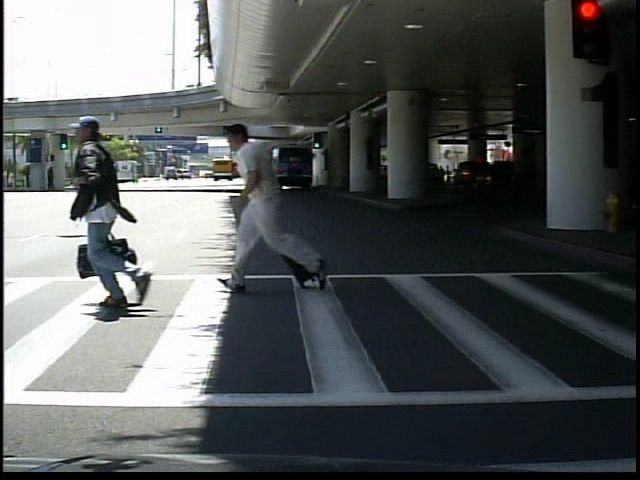person: (69, 112, 157, 314), (234, 116, 307, 295)
